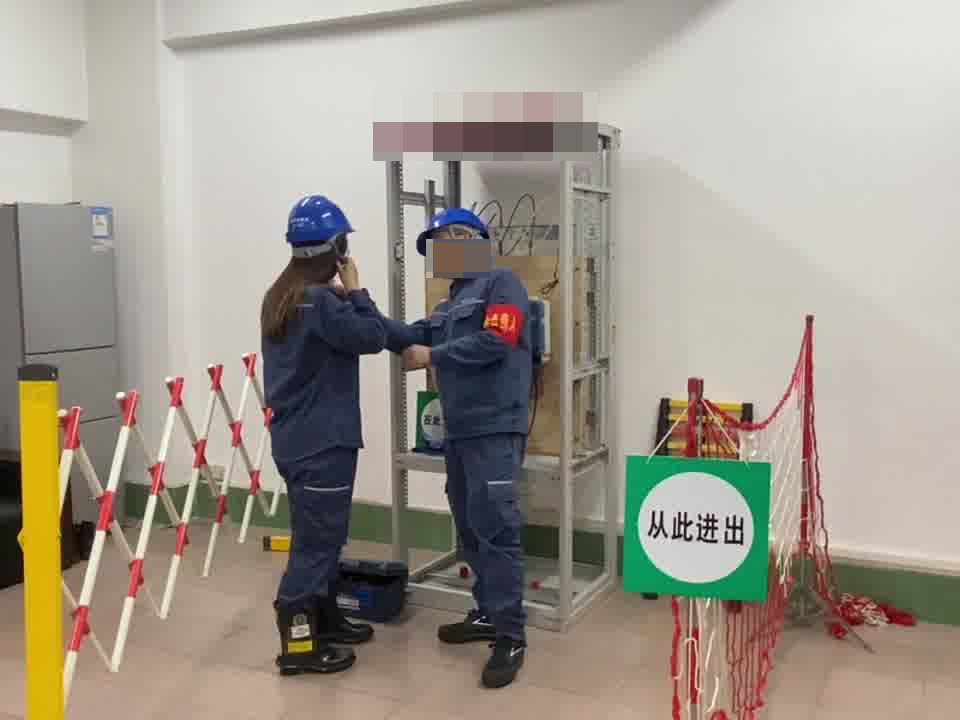badge: (483, 302, 525, 346)
downsuit: (445, 439, 531, 636), (271, 456, 361, 605)
hair: (260, 195, 352, 334)
halt: (417, 206, 493, 277)
hand: (400, 343, 430, 370), (337, 258, 359, 288)
inear: (445, 226, 476, 263)
intosign: (623, 458, 770, 602)
person: (414, 206, 546, 680), (252, 192, 390, 627)
shoe: (278, 607, 353, 673), (312, 605, 370, 641)
upsuit: (419, 264, 540, 434), (260, 284, 383, 451)
worksign: (414, 386, 447, 454)
